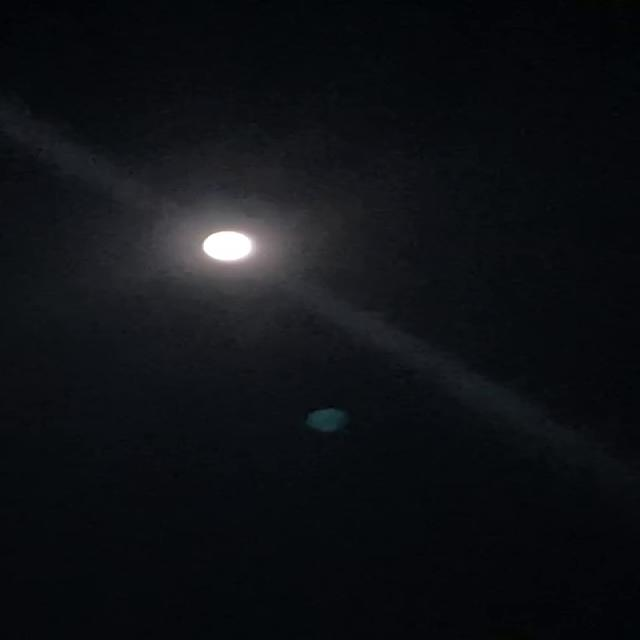moon: (192, 219, 284, 265)
